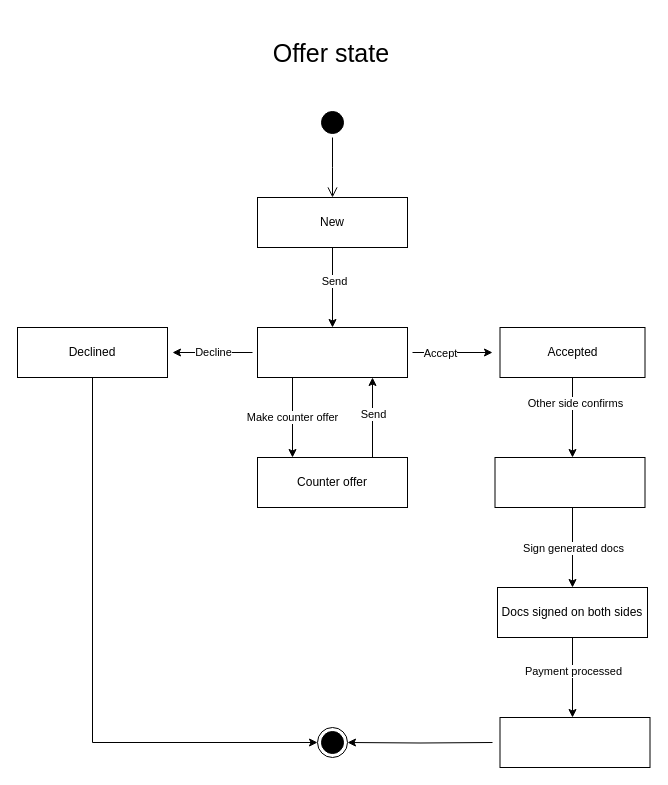
The diagram is 668 pixels wide and 785 high, and some of its shapes have lost their labels. Here are the shapes that lost their labels. From the top down, the centre of each, then its label:
the point at 332,352: Sent
the point at 569,482: Confirmed
the point at 574,742: Paid
